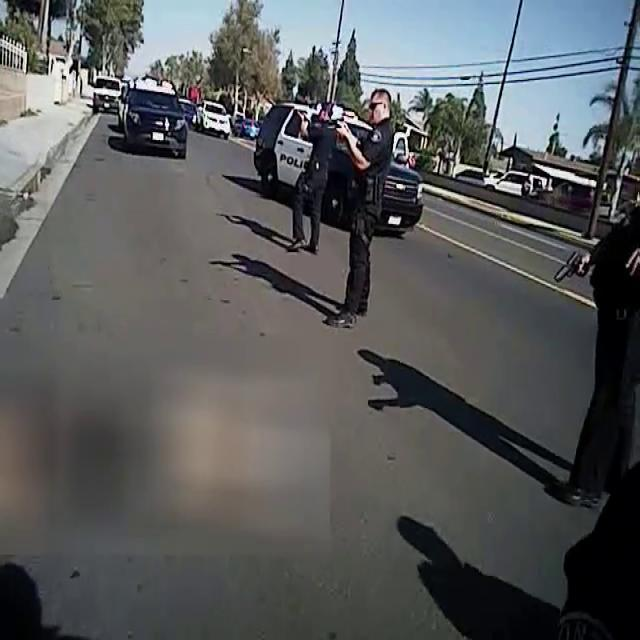gun: (544, 238, 598, 293), (321, 109, 349, 141), (289, 100, 302, 116)
